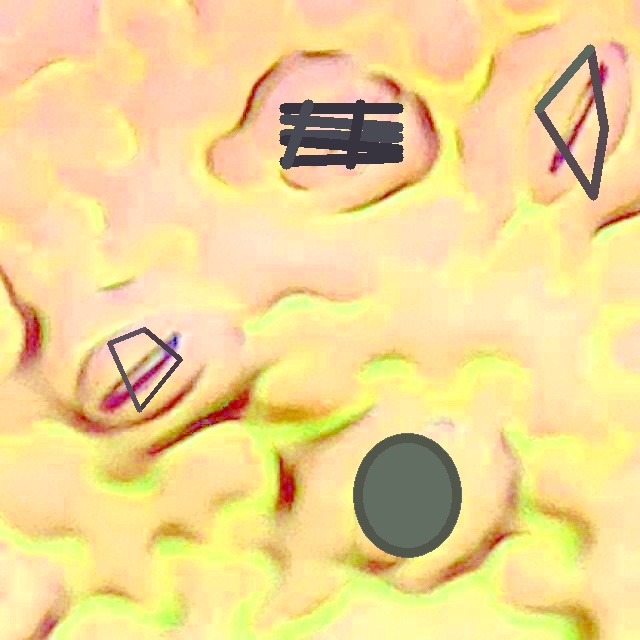open: (353, 432, 462, 557), (535, 44, 607, 199), (279, 99, 402, 169), (107, 327, 182, 412)
